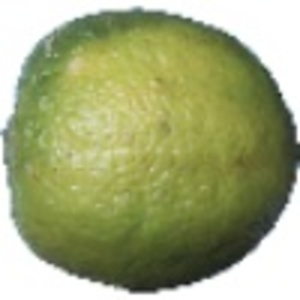limão: (1, 6, 300, 292)
